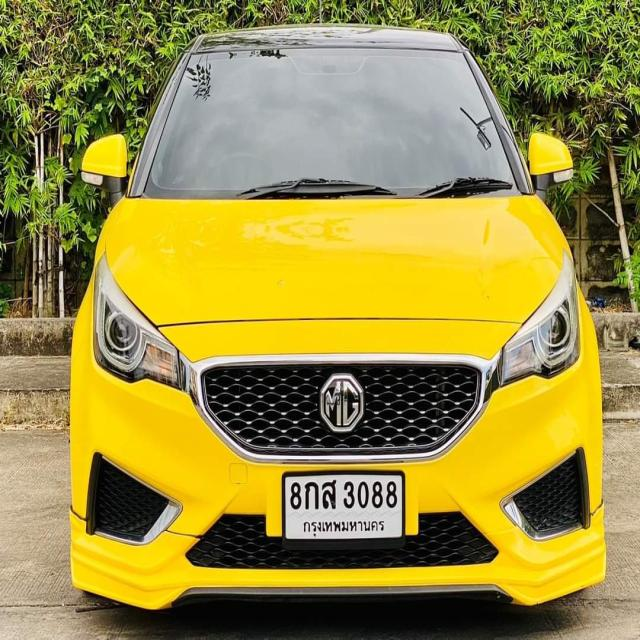license_plate: (281, 468, 408, 544)
